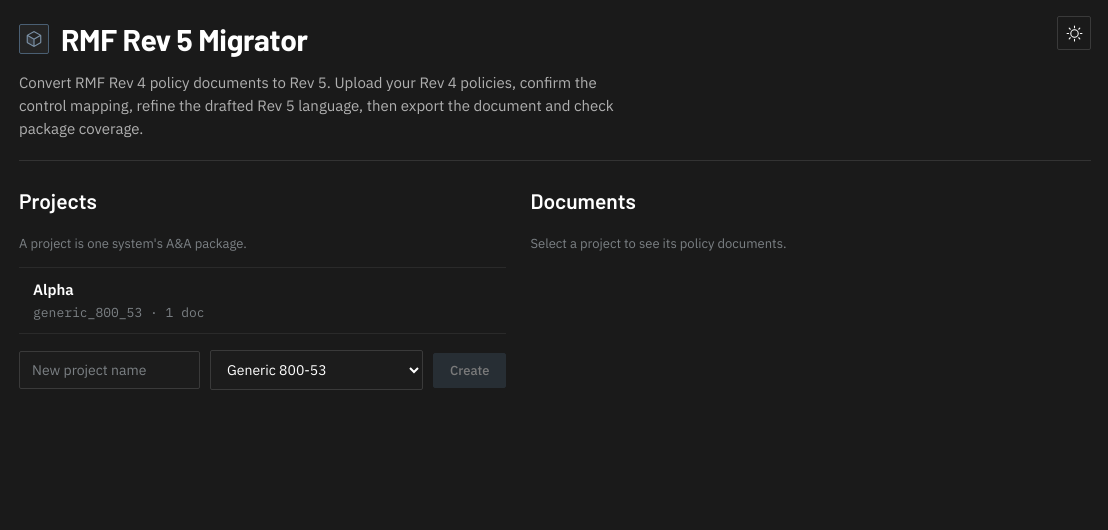
it: Failed document reasons › still says something useful when no reason was recorded
The width and height of the screenshot is (1108, 530).
Click the button "Alpha generic_800_53 · 1 doc" at point(53, 289), box [19, 268, 506, 333]
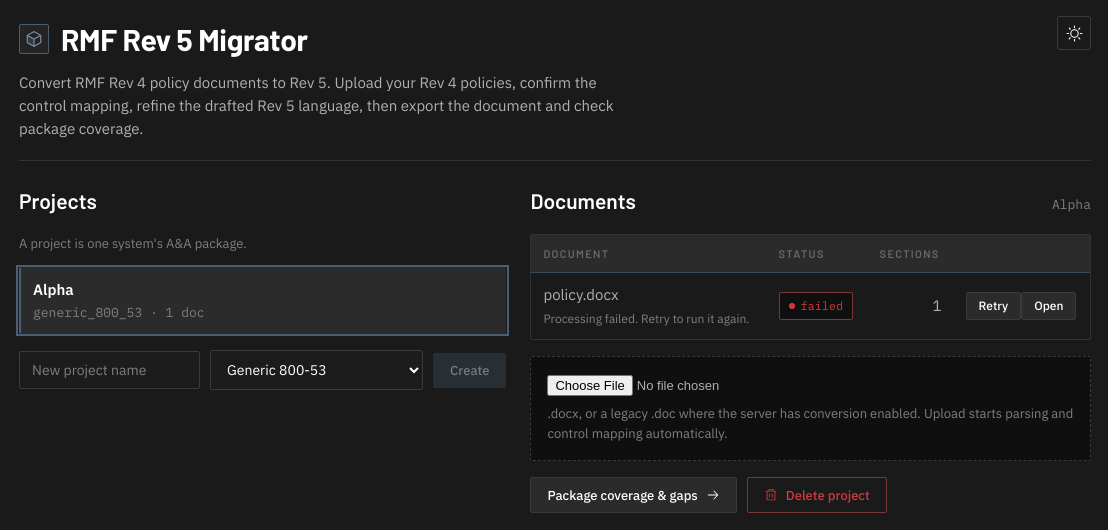
Result: the text "Processing failed. Retry to run it again." is shown at [543, 310, 755, 329]
